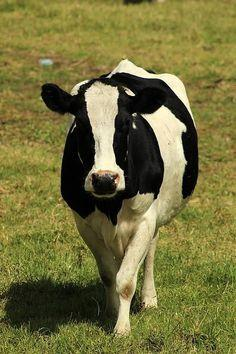cow: (37, 52, 229, 313)
